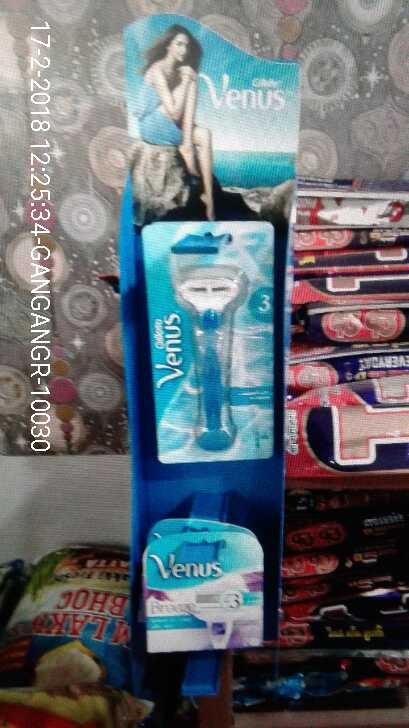venus: (143, 223, 277, 473), (147, 525, 267, 656)
